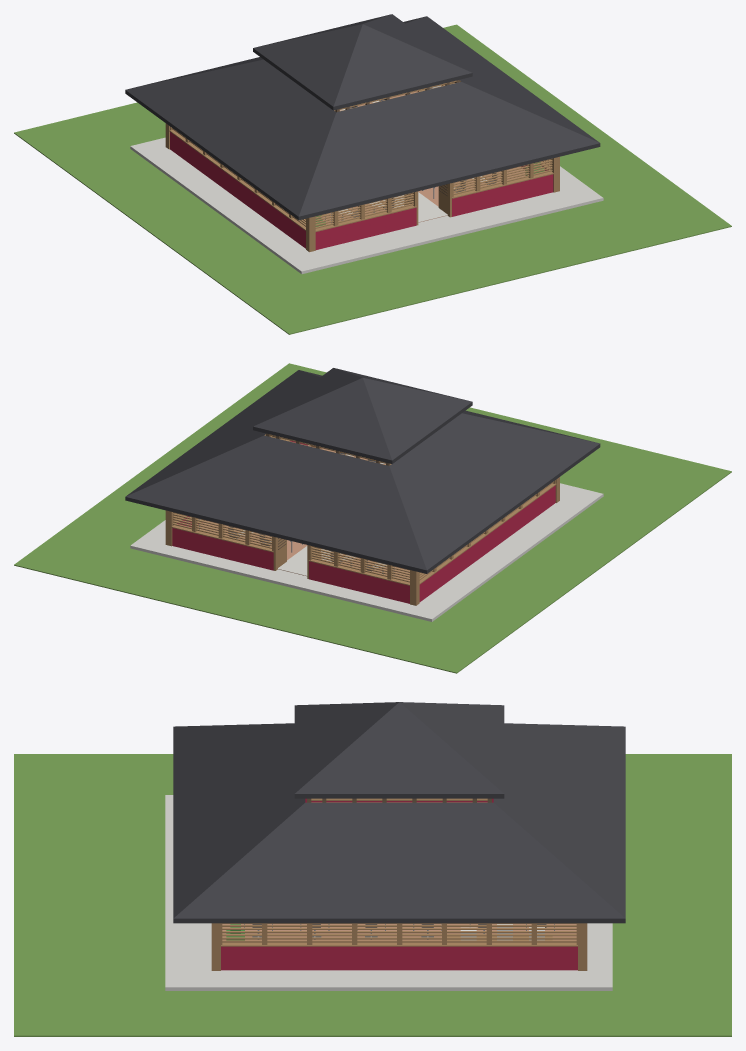
Rendered from maloca.glb.
3 renders of one model, top to bottom at view 1: azimuth 30°, elevation 25°; view 2: azimuth 150°, elevation 25°; view 3: azimuth 270°, elevation 25°, orthographic. The views are drawn at different scales.
Parts seen in each view (by area): view 1: Maloca; view 2: Maloca; view 3: Maloca.
Boxes of the visible parts, x1,y1,x2,y2 form: Maloca: [14, 14, 731, 334]; Maloca: [14, 363, 731, 673]; Maloca: [14, 702, 731, 1036].
Bounding box in the file's own units: 25.12 × 8.06 × 27.05.
